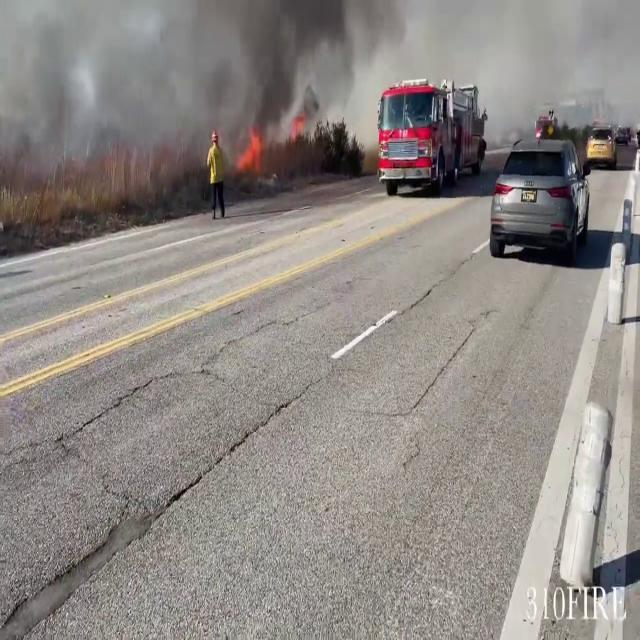Fire: (238, 122, 268, 170)
Smoke: (0, 0, 350, 183)
